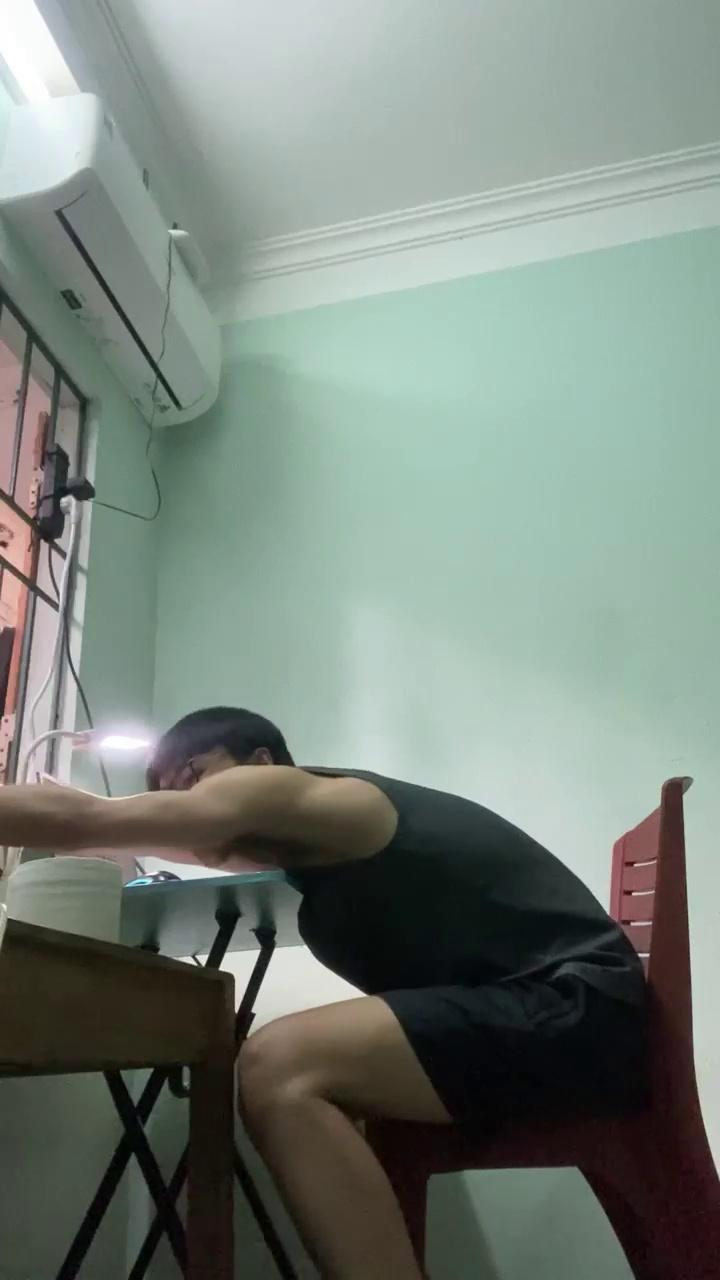BadPosture: (0, 706, 648, 1279)
